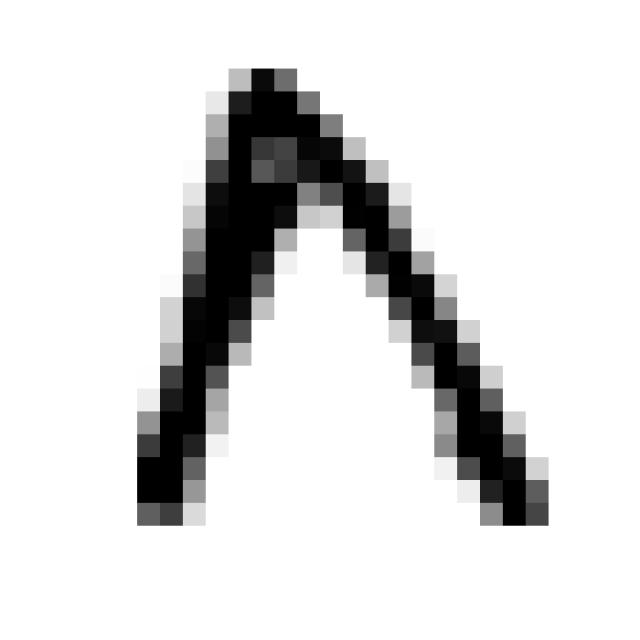8 -eight-: (105, 46, 569, 552)
